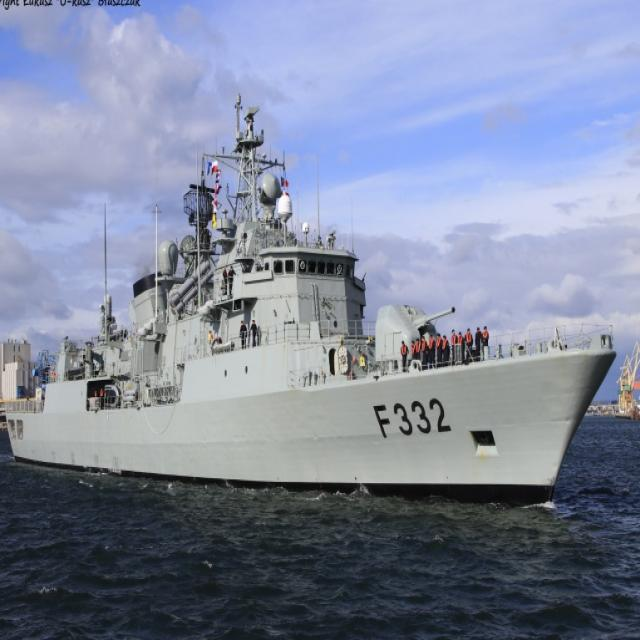Fragata: (1, 92, 622, 515)
